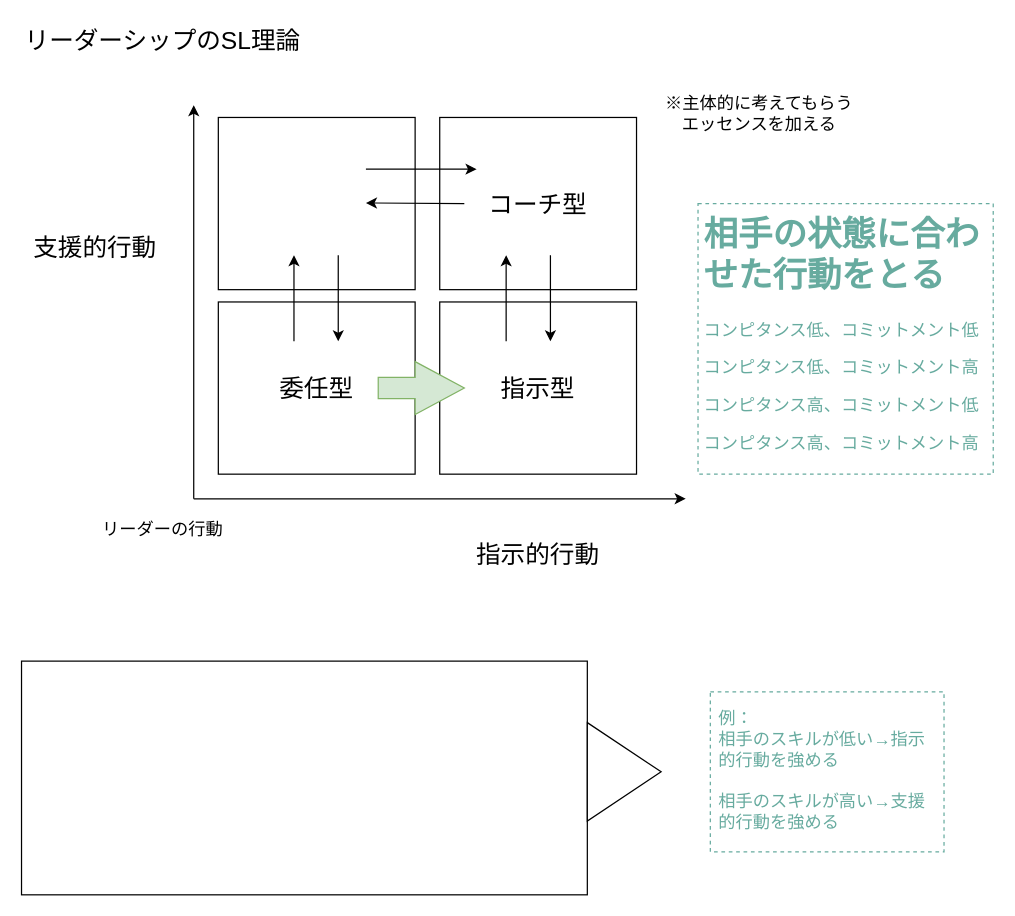
This 1015x916 diagram has some shape labels left out. Here are the shapes that lost their labels. From the top down, the centre of each, then its label:
(x=316, y=203): 支援型
(x=303, y=777): ２軸で見る 相手のコンピタンス（能力、力量、経験） 相手のコミットメント（モチベーション）
